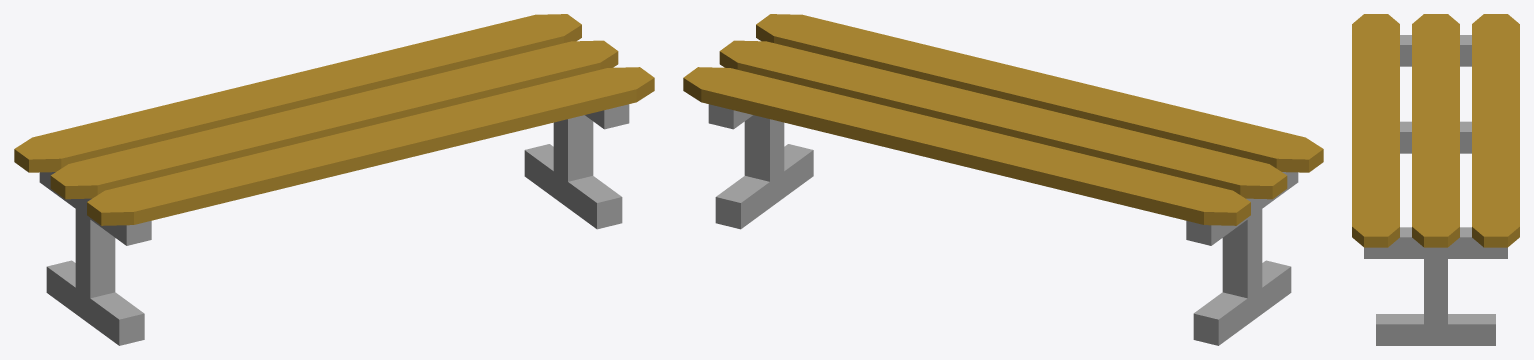
The model's file is steampunk_bench.fbx.
The picture shows the model from 3 angles, left to right: view 1: azimuth 30°, elevation 25°; view 2: azimuth 150°, elevation 25°; view 3: azimuth 270°, elevation 25°; orthographic projection. The views are drawn at different scales.
Parts seen in each view (by area): view 1: Cube.081; view 2: Cube.081; view 3: Cube.081.
Boxes of the visible parts, x1,y1,x2,y2 form: Cube.081: (14,14,654,345); Cube.081: (683,14,1323,345); Cube.081: (1352,14,1519,345).
Bounding box in the file's own units: 2.2 × 0.55 × 0.7.
